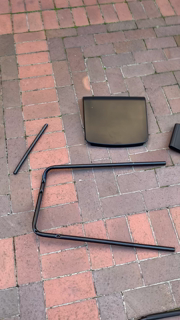Seat: (80, 95, 152, 150)
U pipe: (31, 161, 177, 254)
i pipe: (12, 121, 52, 178)
